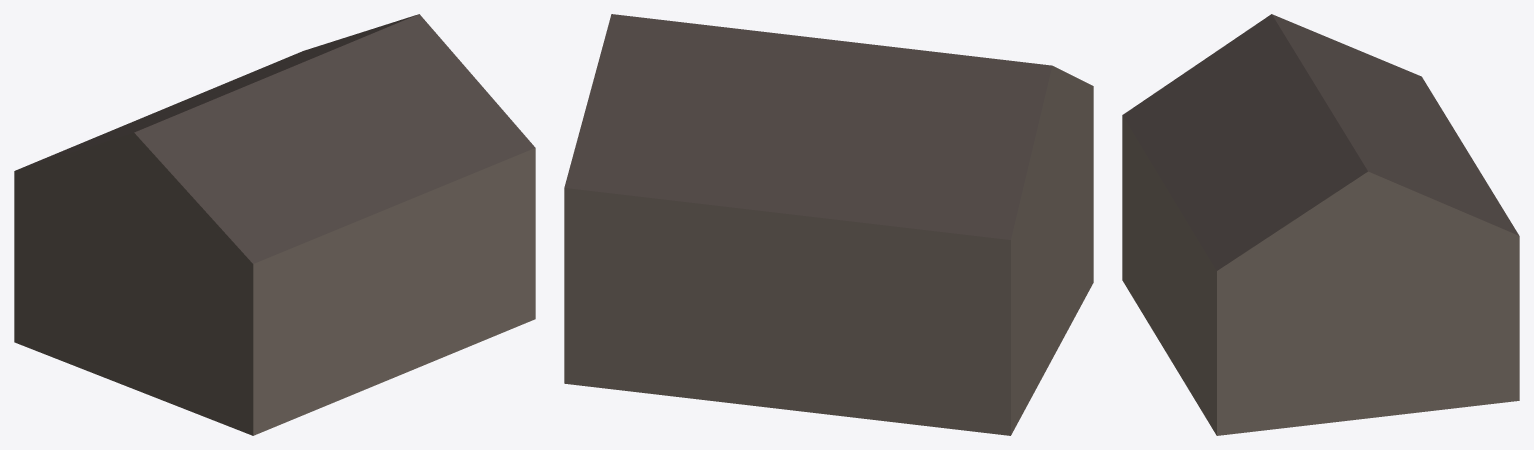
3 views of the same model, side by side, from view 1: azimuth 30°, elevation 25°; view 2: azimuth 150°, elevation 25°; view 3: azimuth 270°, elevation 25° (orthographic). The views are drawn at different scales.
Visible parts, largest first — view 1: HP-w1198842239; view 2: HP-w1198842239; view 3: HP-w1198842239.
Boxes of the visible parts, box(x1,y1,x2,y2) form: HP-w1198842239: box(14, 14, 535, 435); HP-w1198842239: box(564, 14, 1093, 435); HP-w1198842239: box(1122, 14, 1519, 435).
Bounding box in the file's own units: 15.2 × 8.99 × 13.11.
